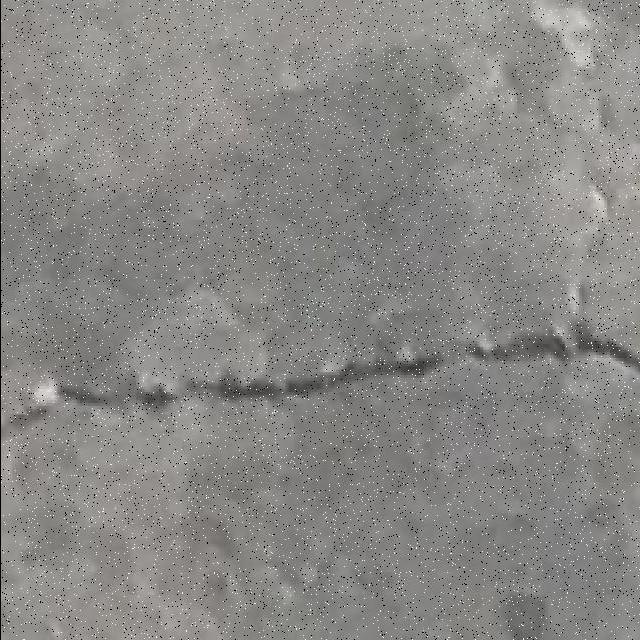crack: (449, 8, 633, 383), (11, 360, 640, 429), (446, 487, 640, 633), (14, 377, 179, 422), (135, 374, 296, 405), (266, 74, 387, 112), (7, 403, 55, 427)
